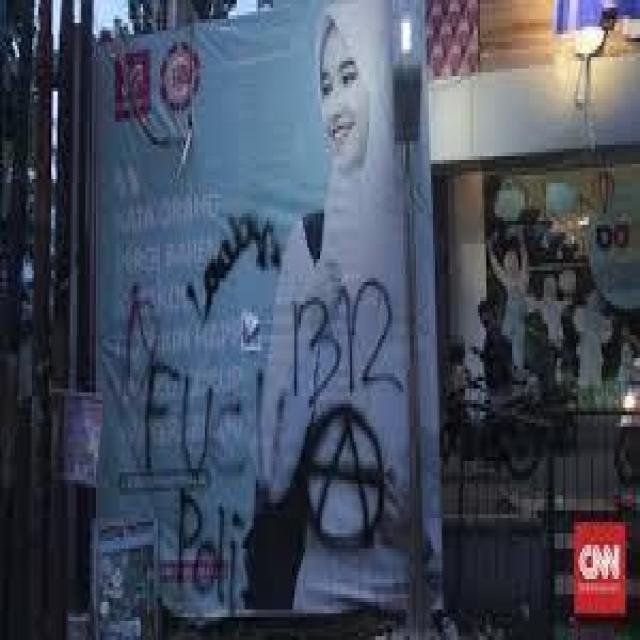nonspitting: (121, 286, 282, 610), (292, 278, 404, 402), (301, 400, 383, 552), (188, 214, 281, 322)
